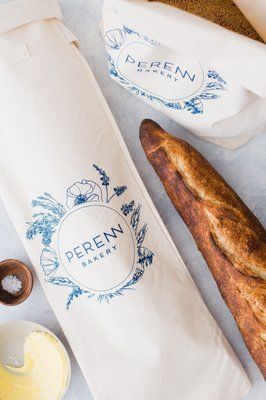pasta: (138, 117, 266, 396)
